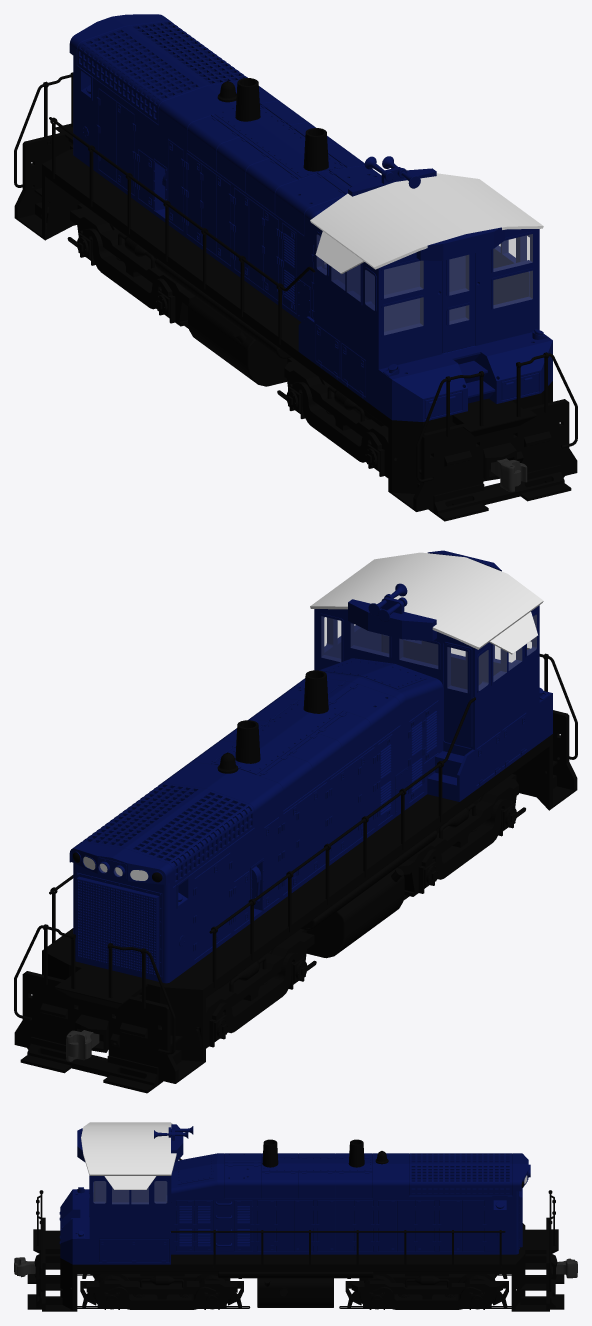
File: sw1500_blue.glb
3 renders of one model, top to bottom at view 1: azimuth 30°, elevation 25°; view 2: azimuth 150°, elevation 25°; view 3: azimuth 270°, elevation 25°, orthographic. The views are drawn at different scales.
Visible parts, largest first — view 1: Body_Body.001, Truck_Rear_Truck, Truck_Front_Truck, Coupler_Front_Coupling.001; view 2: Body_Body.001, Truck_Front_Truck, Truck_Rear_Truck, Coupler_Rear_Coupling.001; view 3: Body_Body.001, Truck_Front_Truck, Truck_Rear_Truck, Coupler_Rear_Coupling.001, Coupler_Front_Coupling.001, Wheelset_Rear_1_Wheelset, Wheelset_Front_1_Wheelset.
Part boxes in pixels (x1,y1,x2,y2): Body_Body.001: (14, 14, 577, 521); Truck_Rear_Truck: (41, 201, 194, 328); Truck_Front_Truck: (277, 357, 397, 485); Coupler_Front_Coupling.001: (491, 458, 527, 492); Body_Body.001: (14, 550, 577, 1093); Truck_Front_Truck: (397, 770, 548, 900); Truck_Rear_Truck: (195, 929, 316, 1050); Coupler_Rear_Coupling.001: (66, 1030, 99, 1061); Body_Body.001: (27, 1122, 564, 1311); Truck_Front_Truck: (70, 1274, 250, 1309); Truck_Rear_Truck: (339, 1274, 518, 1309); Coupler_Rear_Coupling.001: (556, 1258, 577, 1278); Coupler_Front_Coupling.001: (14, 1257, 35, 1277); Wheelset_Rear_1_Wheelset: (458, 1274, 496, 1309); Wheelset_Front_1_Wheelset: (93, 1274, 129, 1309).
Bounding box in the file's own units: 3.58 × 4.67 × 14.03.
14 materials, 2 textured.
